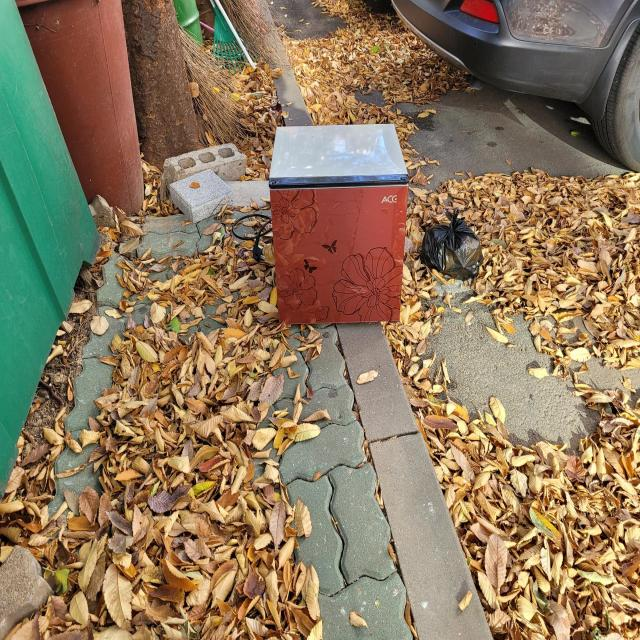refrigerator: (268, 123, 409, 325)
